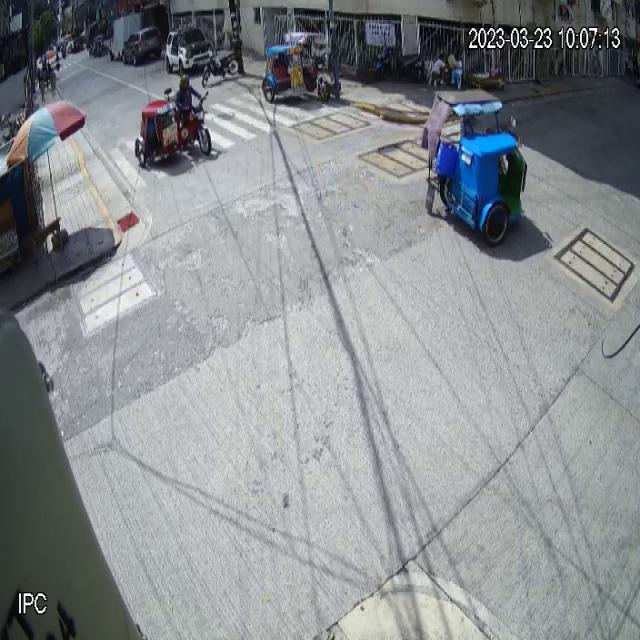Tricycle: (420, 87, 528, 247), (134, 88, 212, 168), (262, 31, 332, 106)
